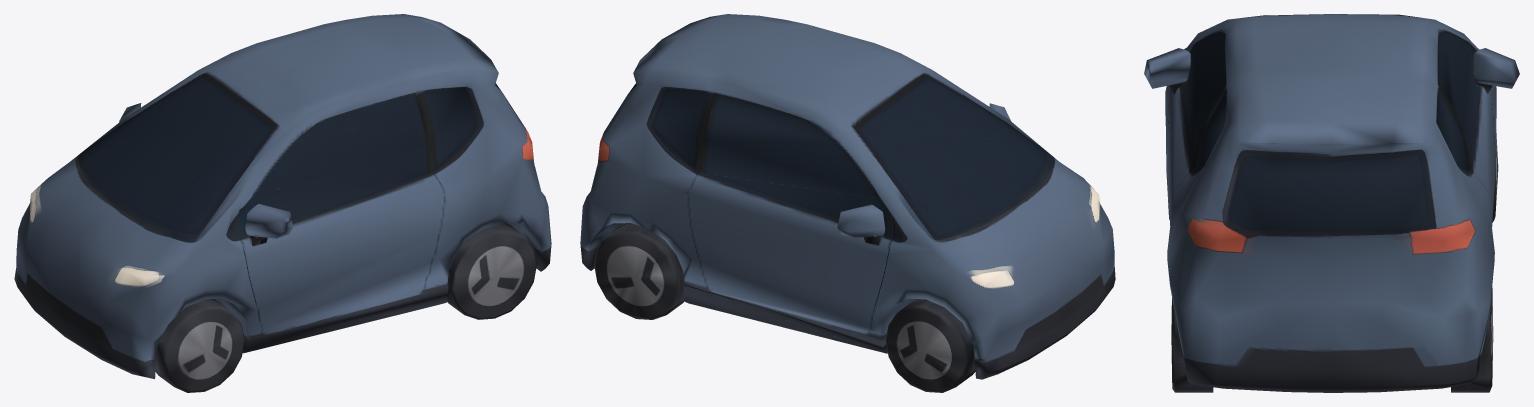
The model's file is parked_car.fbx.
3 views of the same model, side by side, from view 1: azimuth 30°, elevation 25°; view 2: azimuth 150°, elevation 25°; view 3: azimuth 270°, elevation 25° (orthographic). The views are drawn at different scales.
Parts seen in each view (by area): view 1: Mesh_0; view 2: Mesh_0; view 3: Mesh_0.
Boxes of the visible parts, x1=… form: Mesh_0: x1=14, y1=14, x2=551, y2=392; Mesh_0: x1=580, y1=14, x2=1115, y2=392; Mesh_0: x1=1144, y1=14, x2=1519, y2=392.
Bounding box in the file's own units: 95.75 × 48.88 × 57.86.
Materials: 1 (1 with a texture image).
